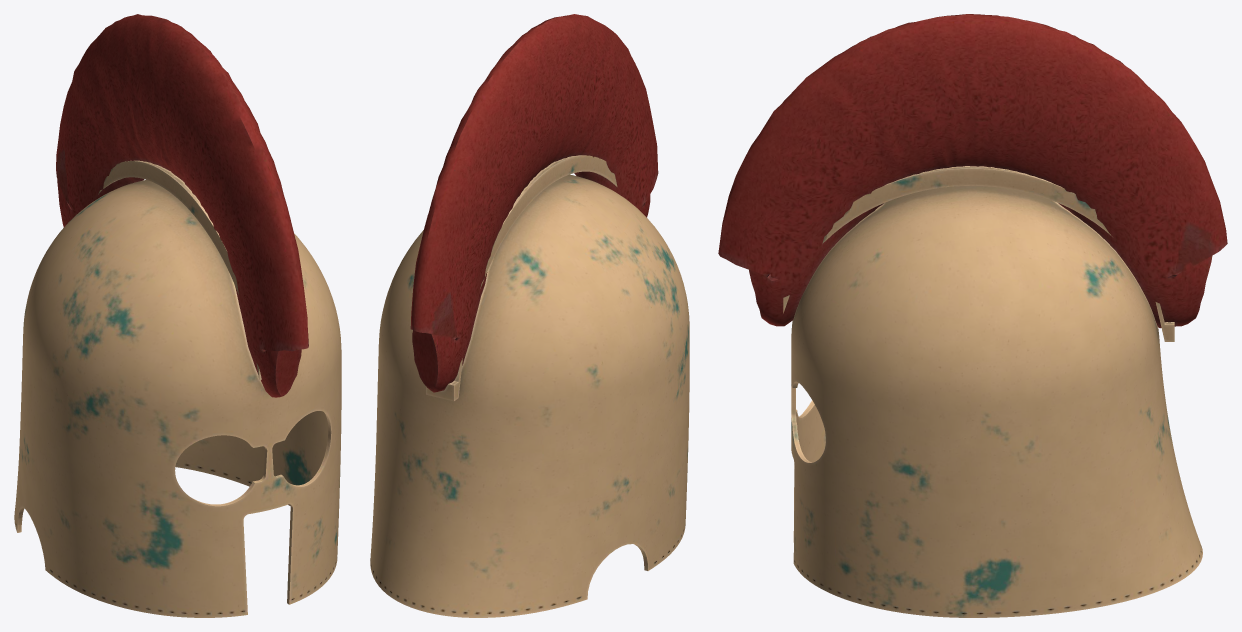
File: corinthian_helmet.glb
The picture shows the model from 3 angles, left to right: view 1: azimuth 30°, elevation 25°; view 2: azimuth 150°, elevation 25°; view 3: azimuth 270°, elevation 25°; orthographic projection. The views are drawn at different scales.
Visible parts, largest first — view 1: corinthian_helmet; view 2: corinthian_helmet; view 3: corinthian_helmet.
Boxes of the visible parts, x1,y1,x2,y2 form: corinthian_helmet: (14,14,341,617); corinthian_helmet: (370,14,689,617); corinthian_helmet: (718,14,1227,617).
Bounding box in the file's own units: 0.2038 × 0.3808 × 0.3253.
1 material, 1 textured.
